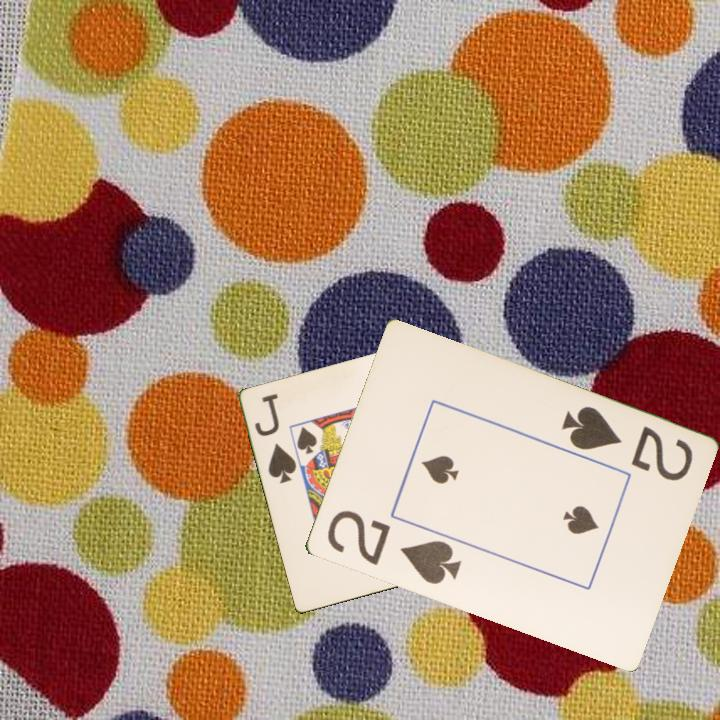2s: (557, 402, 695, 485), (323, 507, 464, 588)
Js: (251, 390, 300, 487)
